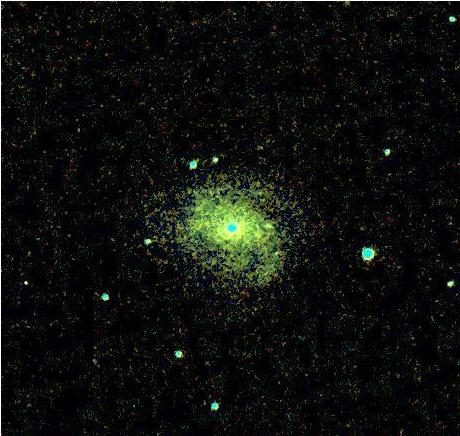star: (10, 267, 40, 297)
